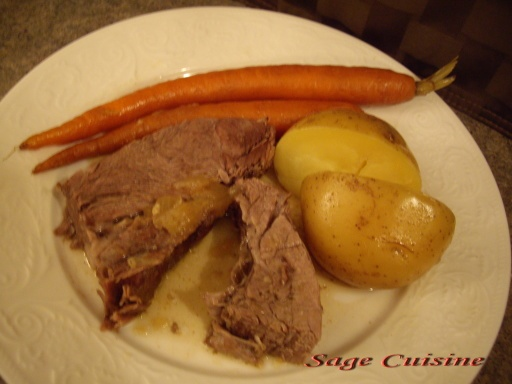background: (15, 34, 366, 221)
